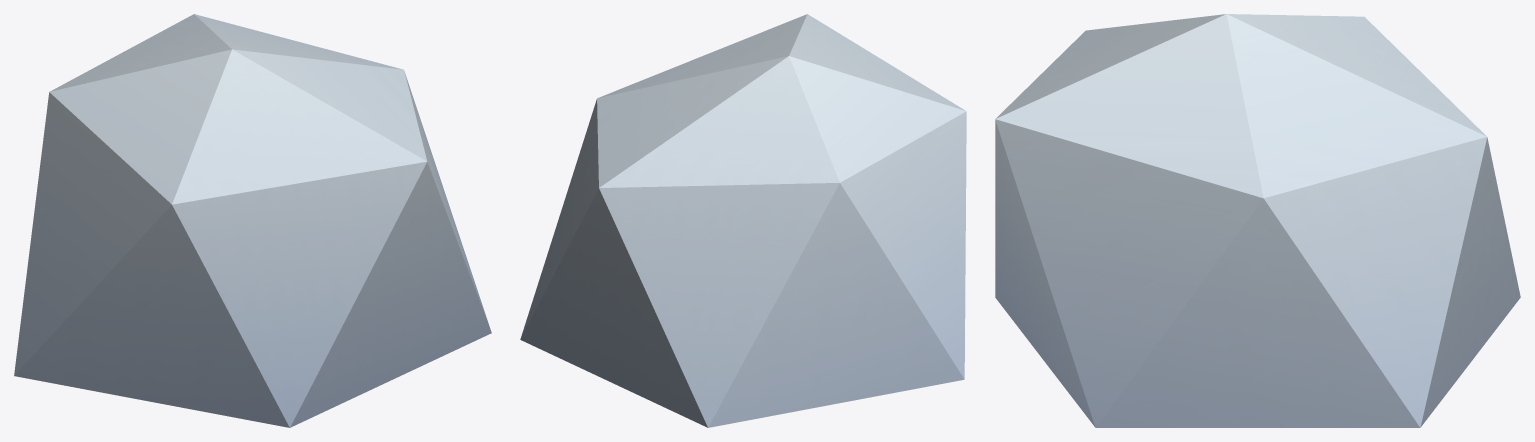
File: Small Rock.fbx
3 renders of one model, left to right at view 1: azimuth 30°, elevation 25°; view 2: azimuth 150°, elevation 25°; view 3: azimuth 270°, elevation 25°, orthographic. The views are drawn at different scales.
Visible parts, largest first — view 1: Icosphere.031; view 2: Icosphere.031; view 3: Icosphere.031.
Part boxes in pixels (<box>): Icosphere.031: <box>14,14,491,427</box>; Icosphere.031: <box>520,14,966,427</box>; Icosphere.031: <box>995,14,1520,427</box>.
Bounding box in the file's own units: 478 × 351 × 503.
